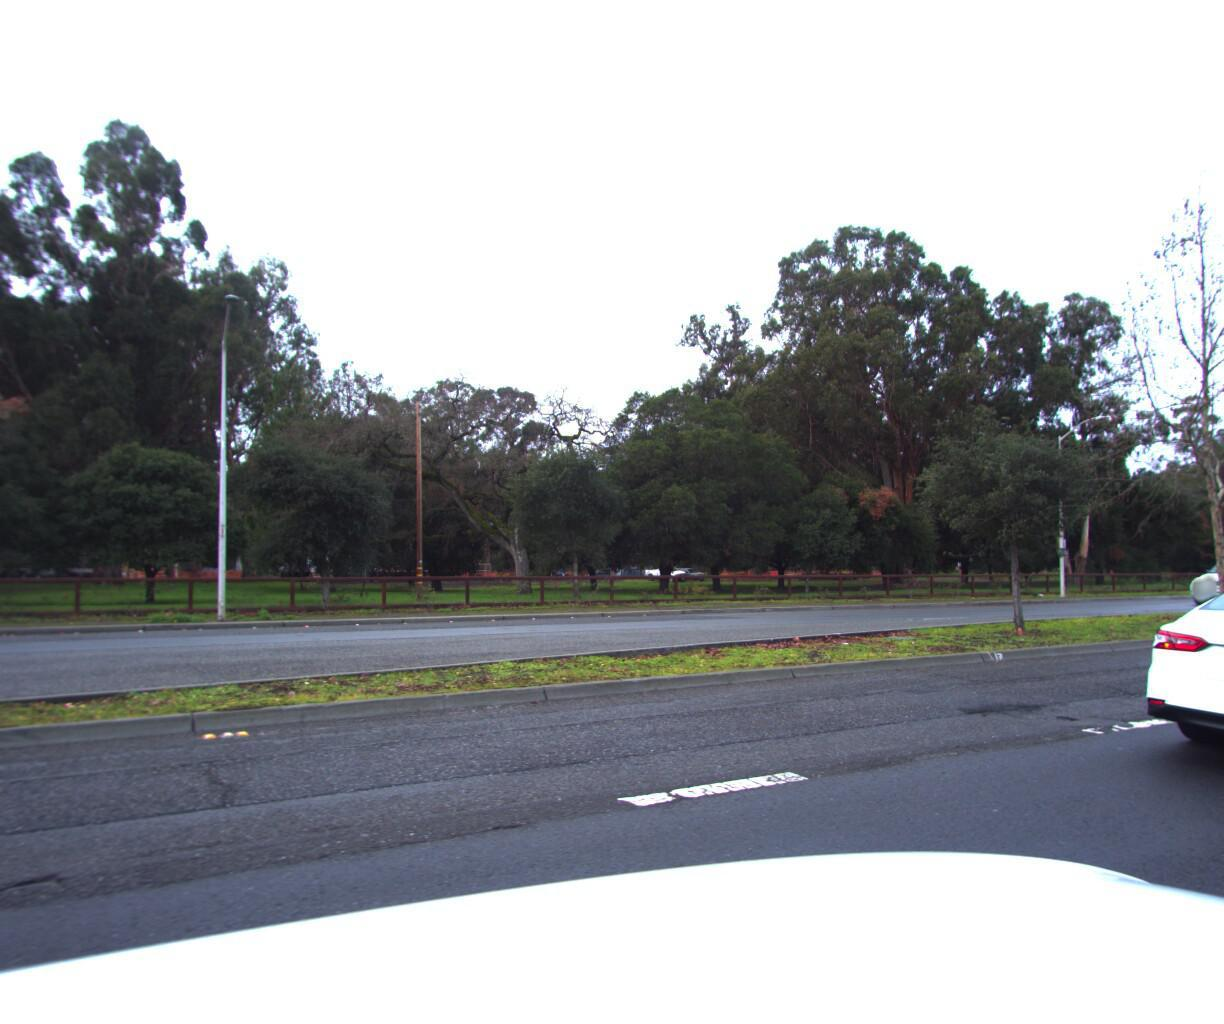car: (1115, 548, 1224, 801), (1175, 551, 1224, 603)
